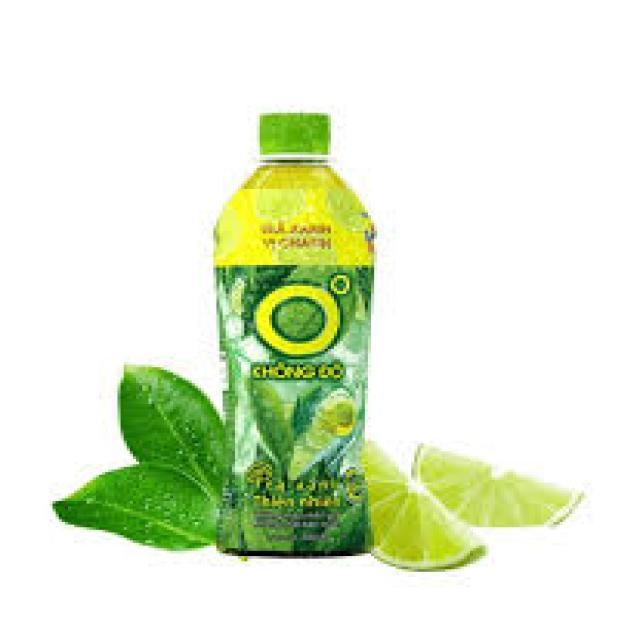tra xanh khong do: (207, 108, 390, 565)
